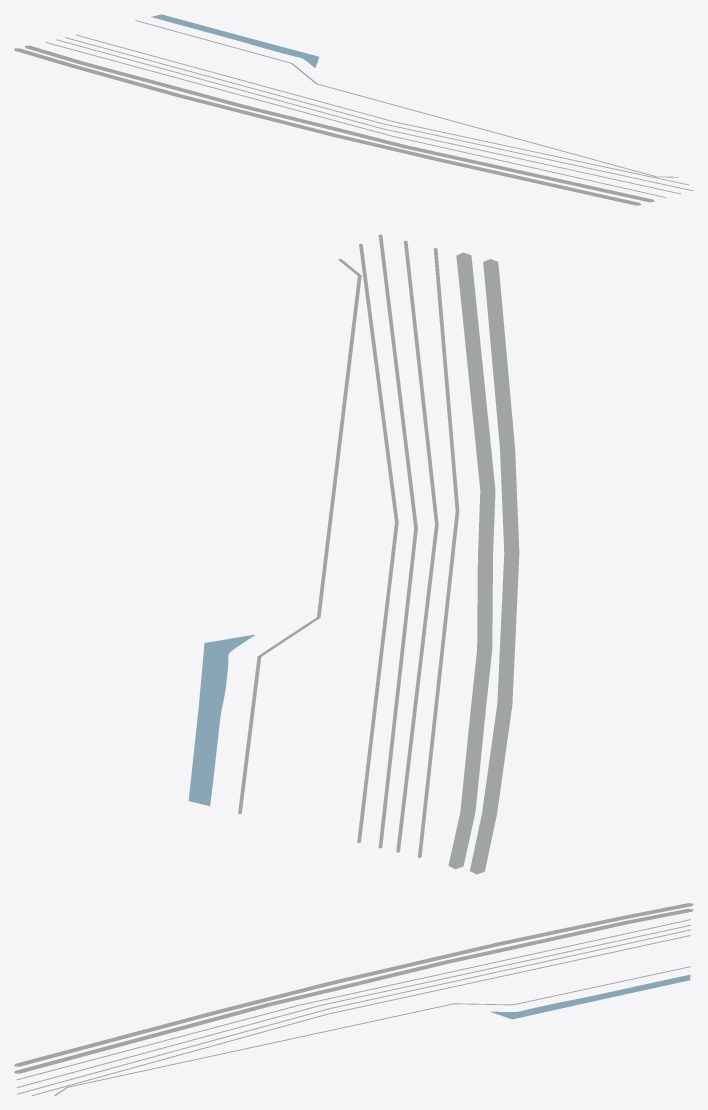
File: -25_10-known-coarse.glb
The picture shows the model from 3 angles, top to bottom: view 1: azimuth 30°, elevation 25°; view 2: azimuth 150°, elevation 25°; view 3: azimuth 270°, elevation 25°; orthographic projection. The views are drawn at different scales.
Size of the model in its own units: 675 by 0.1 by 1005.
